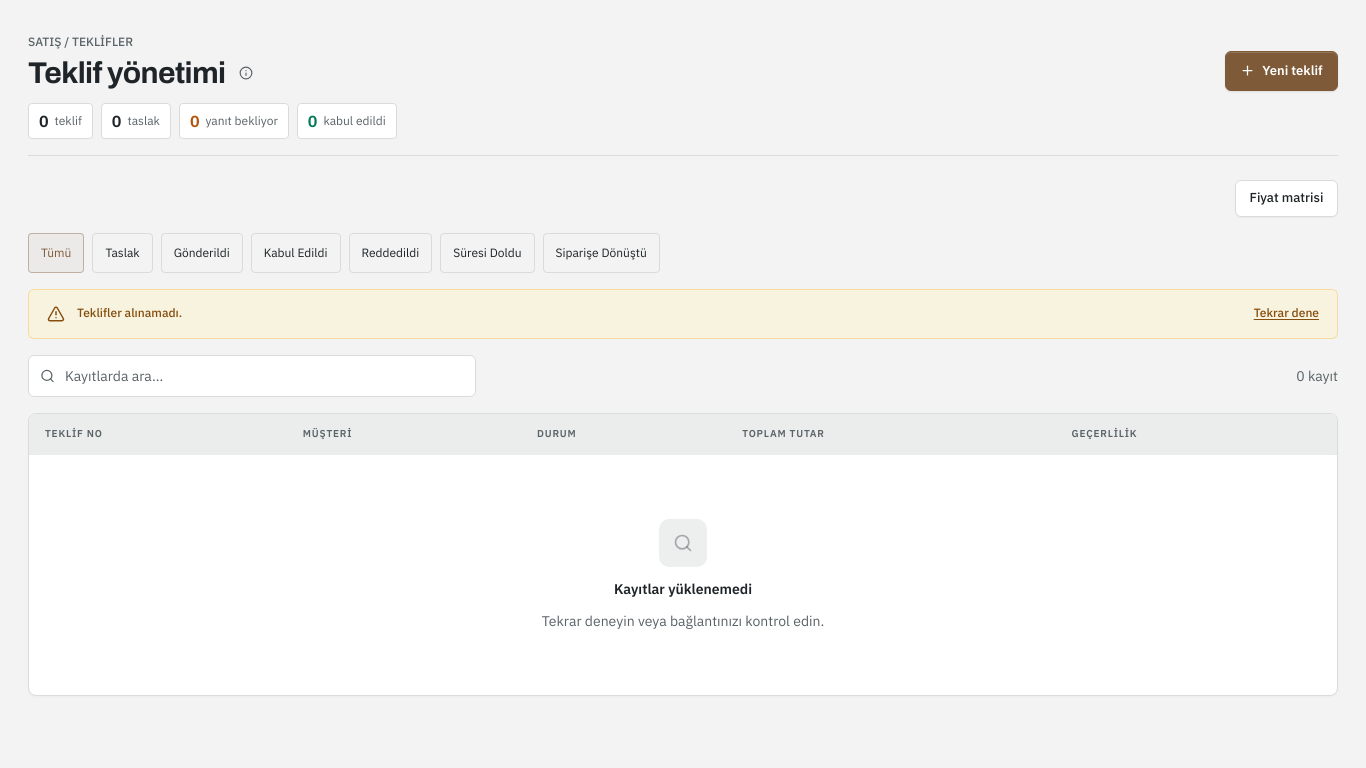
Scenario: shows a failed request as an error without server detail, and retry reloads the list
Expected: the message shows "Teklifler alınamadı.", [77,305,182,320]
What coordinates should you click on to do the following:
click the button "Tekrar dene"
I would click on:
 (1286, 313)
Its box is [1254,305,1319,321].
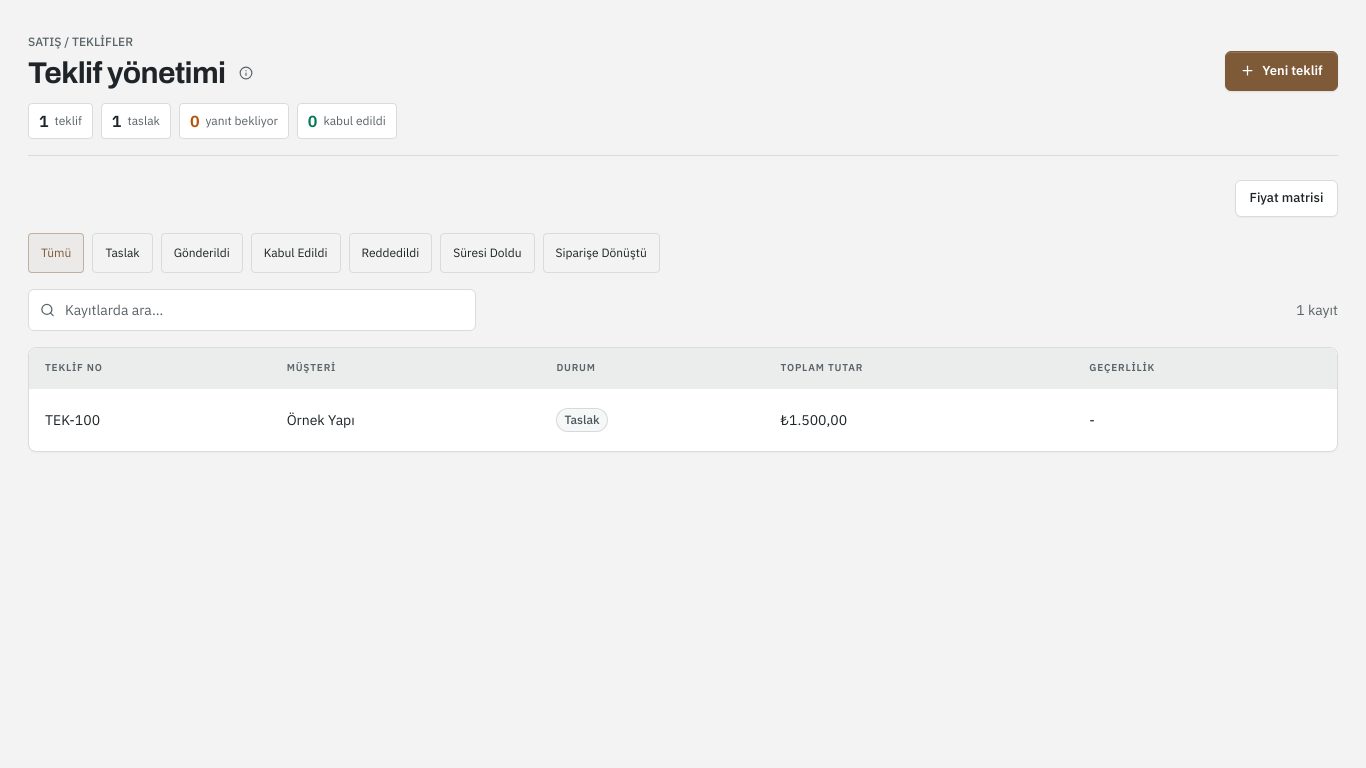
Expected: the text "TEK-100" is shown, [45,411,100,429]
Expected: the message "Teklifler alınamadı. Tekrar dene" is gone
